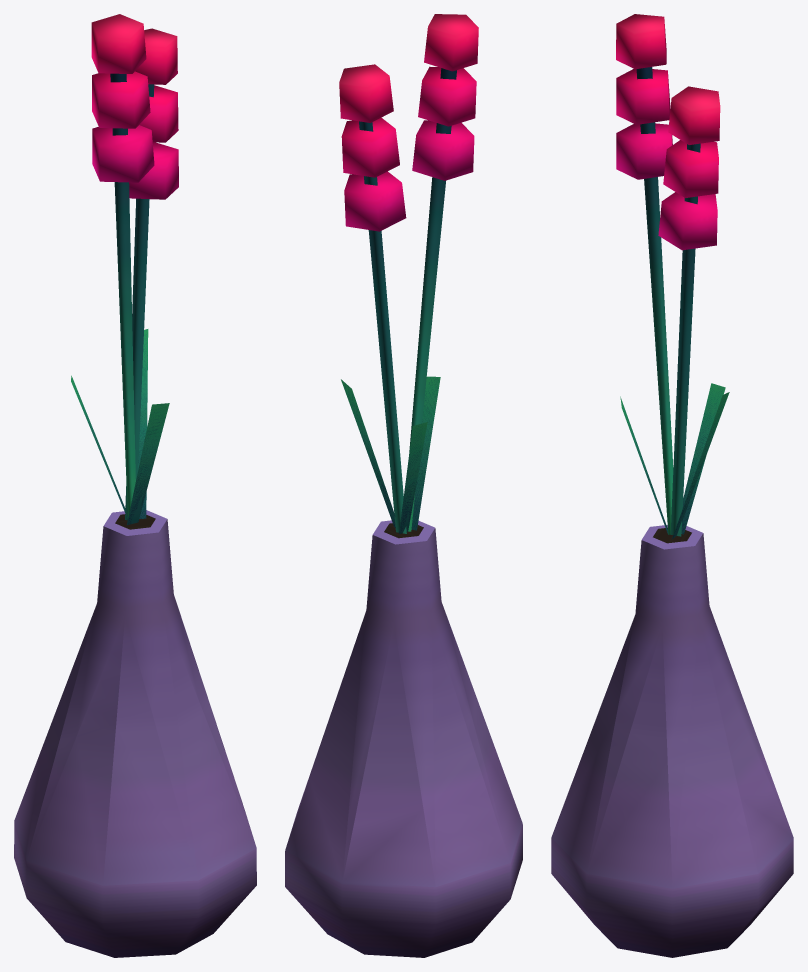
The model's file is Plant_Vase_04.fbx.
The picture shows the model from 3 angles, left to right: view 1: azimuth 30°, elevation 25°; view 2: azimuth 150°, elevation 25°; view 3: azimuth 270°, elevation 25°; orthographic projection. The views are drawn at different scales.
Visible parts, largest first — view 1: Plant_Vase_04; view 2: Plant_Vase_04; view 3: Plant_Vase_04.
Part boxes in pixels (box(x1,y1,x2,y2)): Plant_Vase_04: box(14, 14, 256, 957); Plant_Vase_04: box(285, 14, 522, 957); Plant_Vase_04: box(551, 14, 793, 957).
Bounding box in the file's own units: 28.88 × 117 × 28.88.
Materials: 1 (1 with a texture image).
